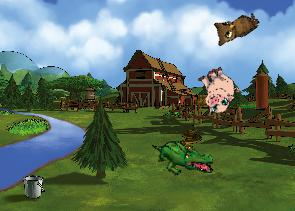crocodile: (152, 137, 214, 178)
owl: (207, 1, 261, 50)
pig: (190, 62, 244, 117)
